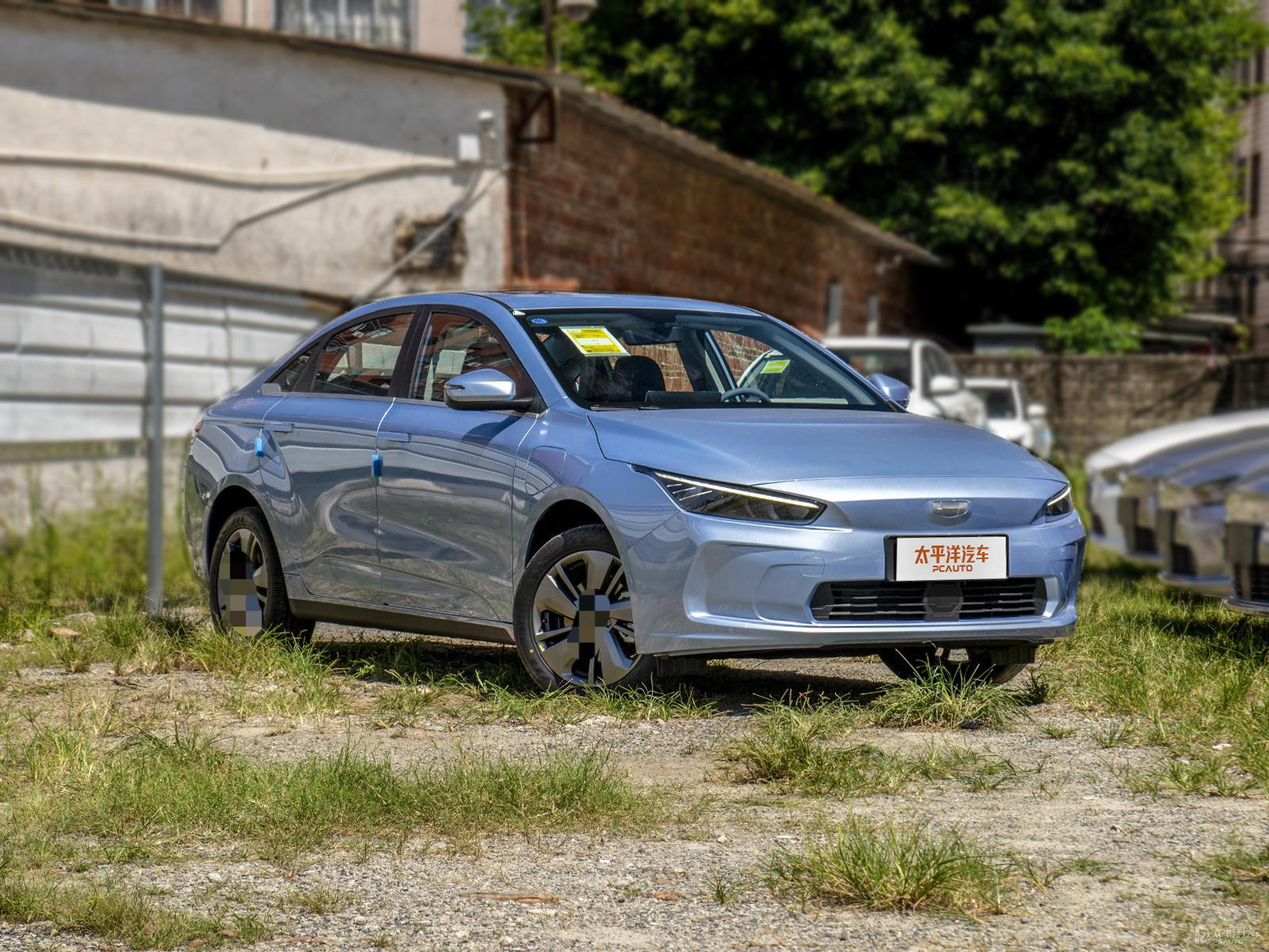GEOMETRY: (932, 501, 968, 517)
